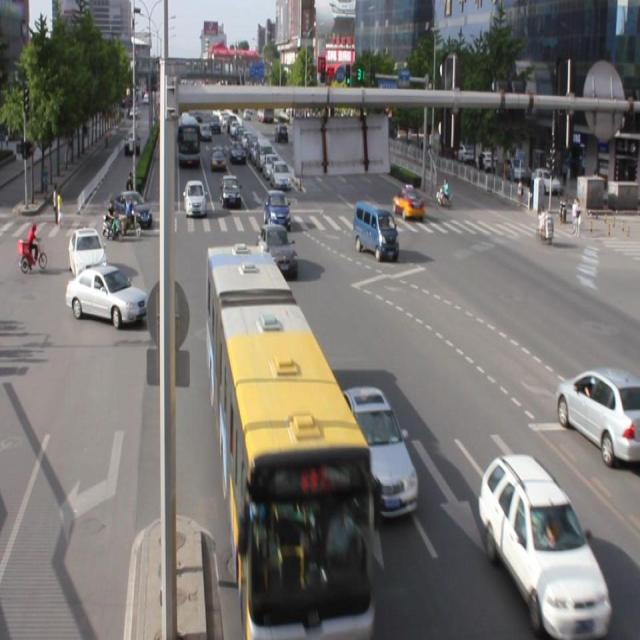car: (478, 452, 610, 632), (340, 385, 418, 517), (555, 366, 640, 460), (65, 264, 148, 326), (257, 224, 299, 280)
truck: (352, 201, 398, 259)
van: (207, 246, 372, 640)
